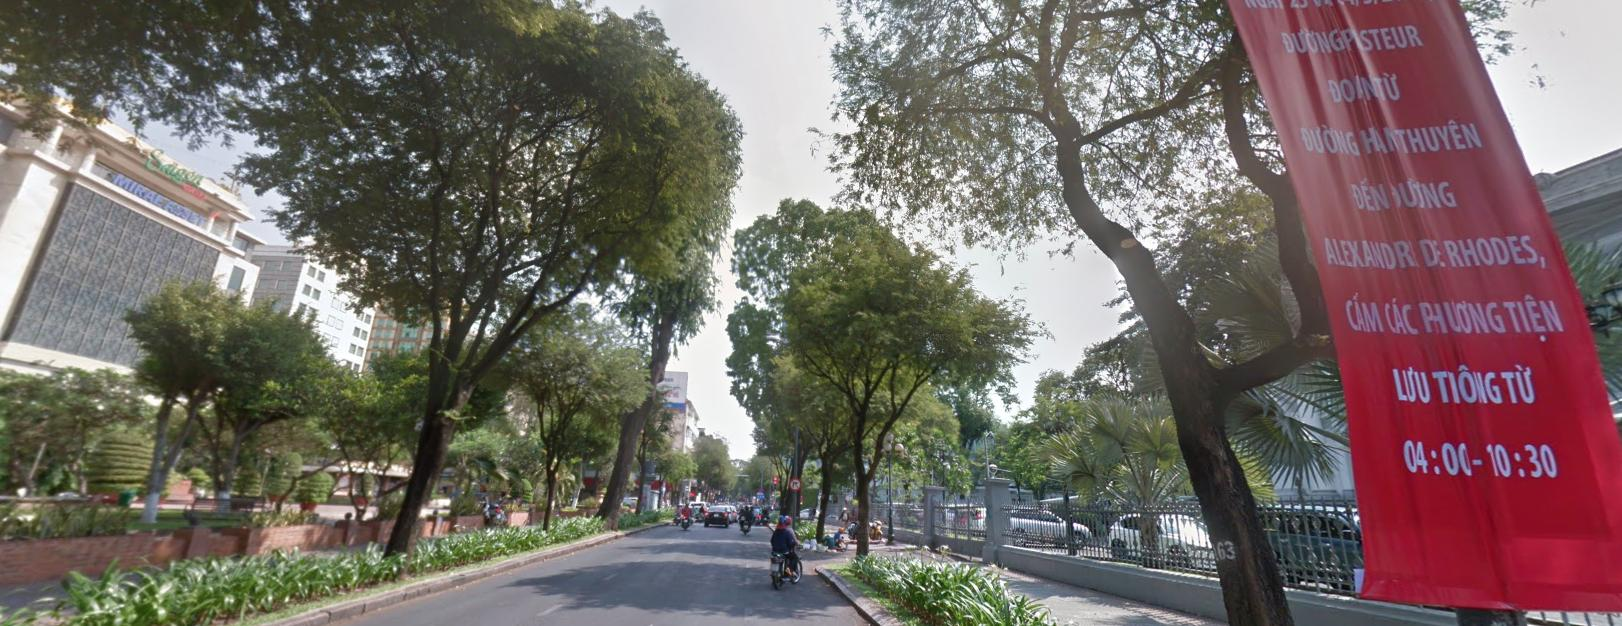Cam re: (789, 476, 800, 489)
